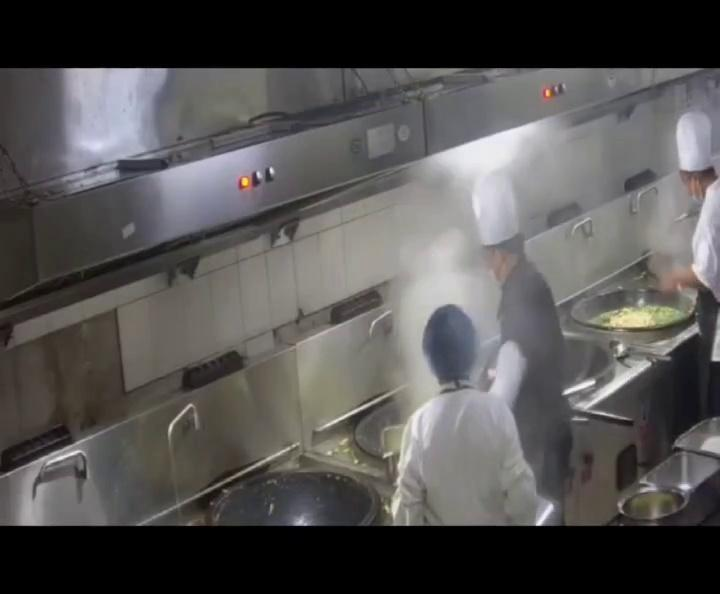mask: (682, 174, 708, 207)
